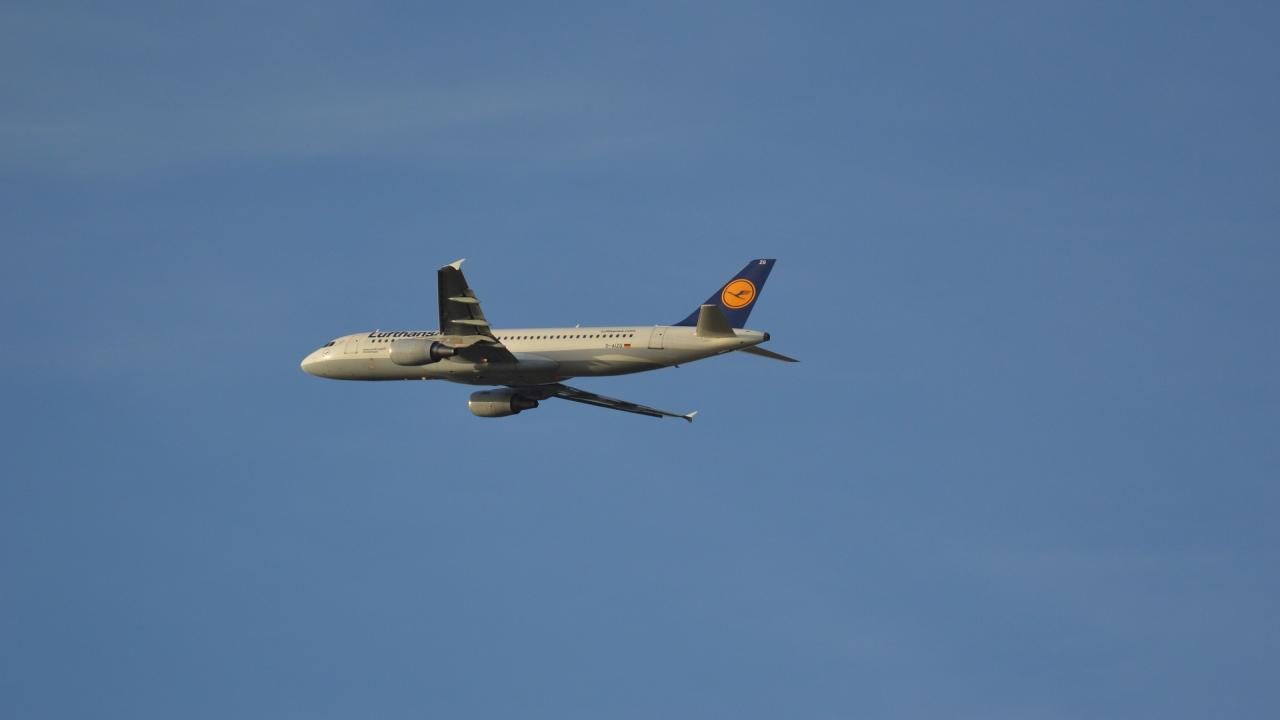Airplane: (290, 247, 810, 435)
